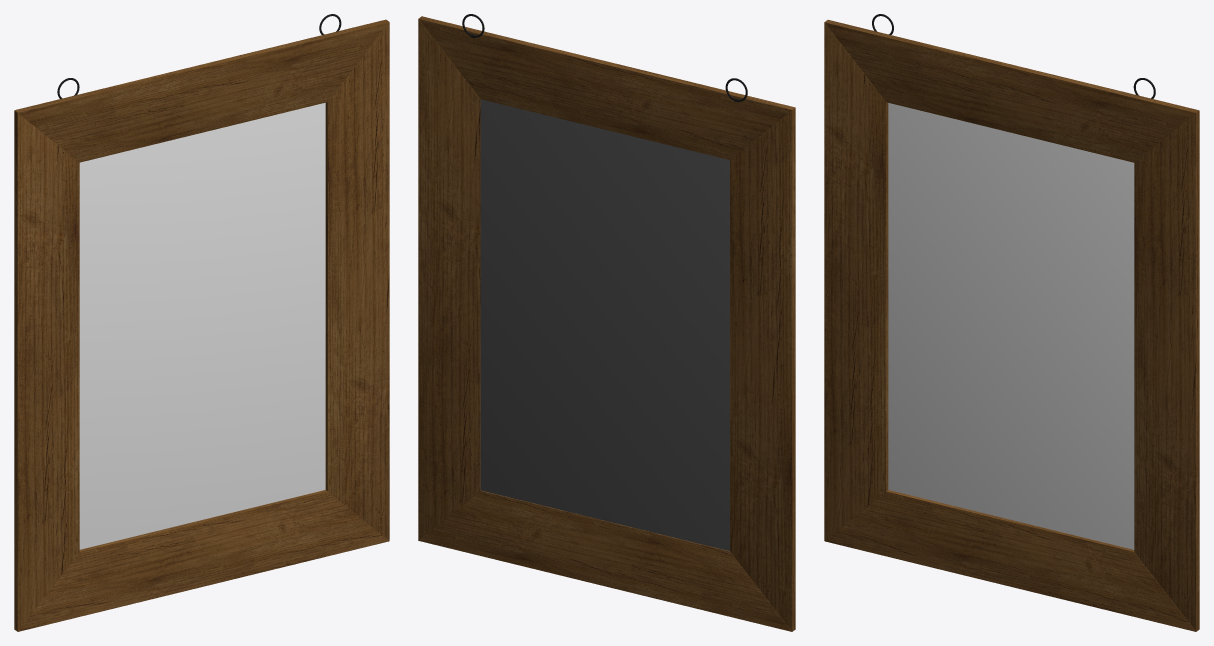
The model's file is mirror_in_recycled_wood..glb.
3 renders of one model, left to right at view 1: azimuth 30°, elevation 25°; view 2: azimuth 150°, elevation 25°; view 3: azimuth 330°, elevation 25°, orthographic.
Visible parts, largest first — view 1: Specchio_in_legno_di_recupero; view 2: Specchio_in_legno_di_recupero; view 3: Specchio_in_legno_di_recupero.
Boxes of the visible parts, <box> form: Specchio_in_legno_di_recupero: <box>14,14,389,631</box>; Specchio_in_legno_di_recupero: <box>418,14,795,631</box>; Specchio_in_legno_di_recupero: <box>824,14,1199,631</box>.
Bounding box in the file's own units: 0.9 × 1.24 × 0.019.
Materials: 4 (1 with a texture image).
